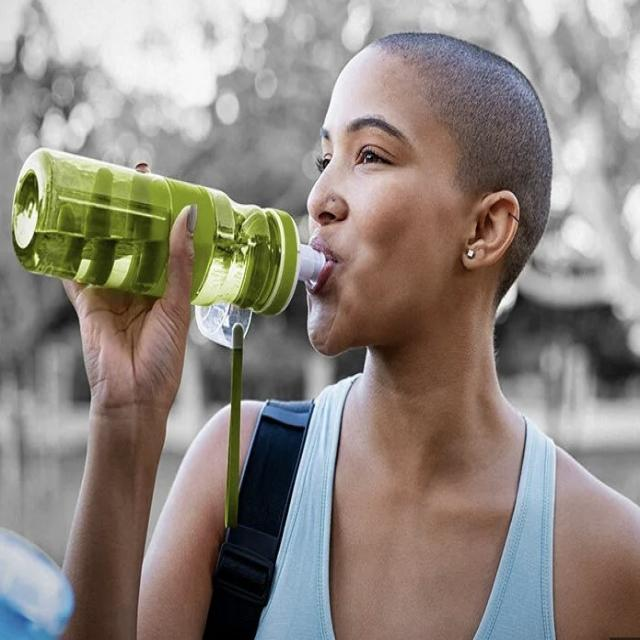eating-person: (8, 23, 640, 640)
